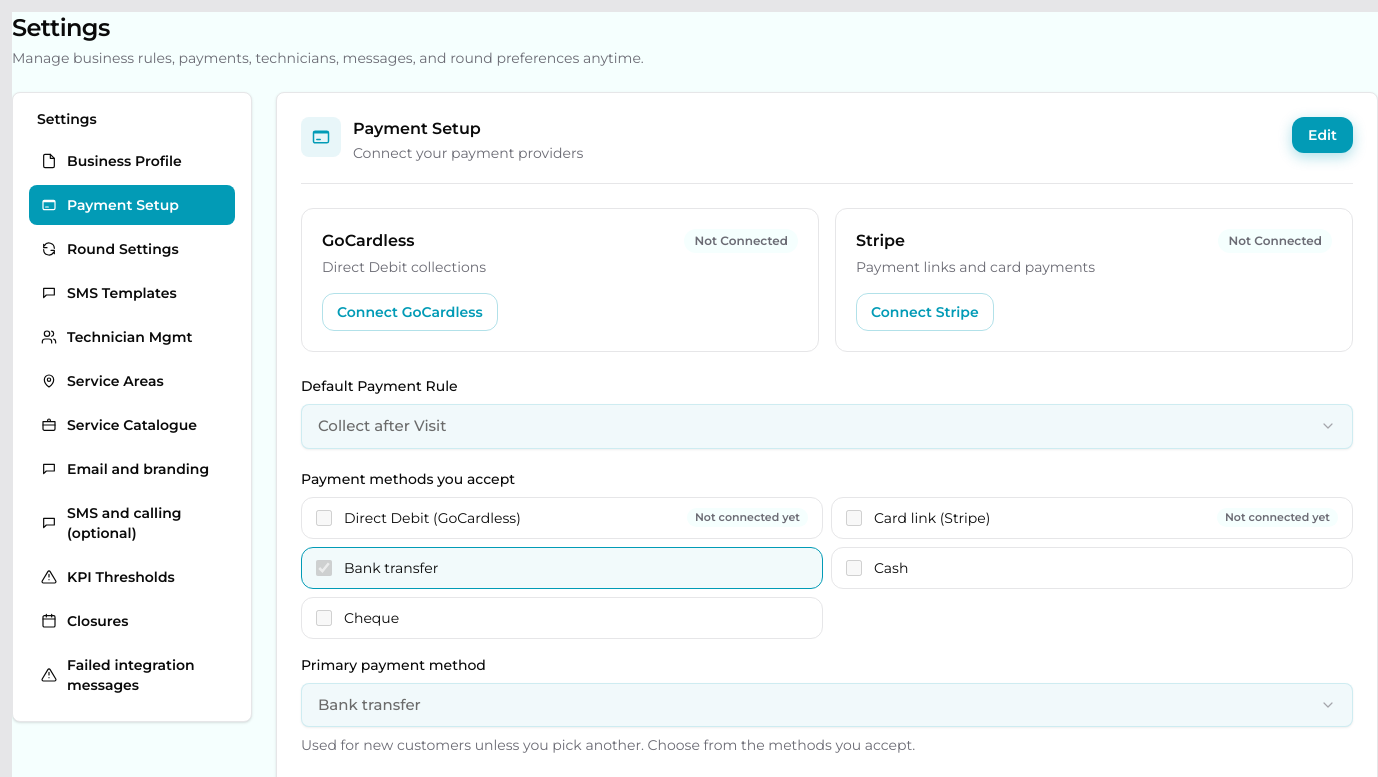
SettingsScreen › Stripe connect redirects to Stripe, and shows why when it can’t (no client id)
The image size is (1378, 777).
Later steps or results of the test are not shown.
Click the button "Connect Stripe". click: (925, 312)
box: left=856, top=293, right=994, bottom=331
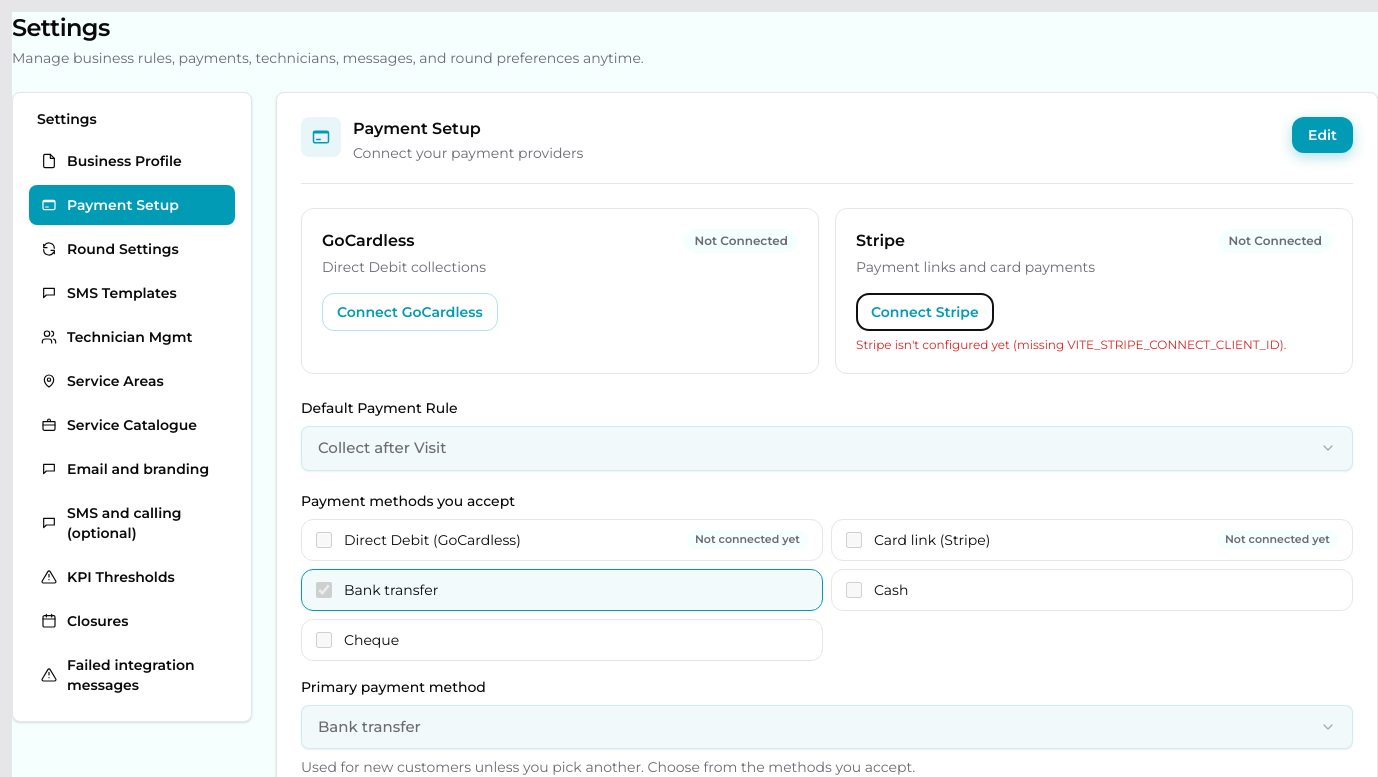
Check: the text "Stripe isn't configured yet (missing VITE_STRIPE_CONNECT_CLIENT_ID)." is shown, box left=856, top=337, right=1332, bottom=353
